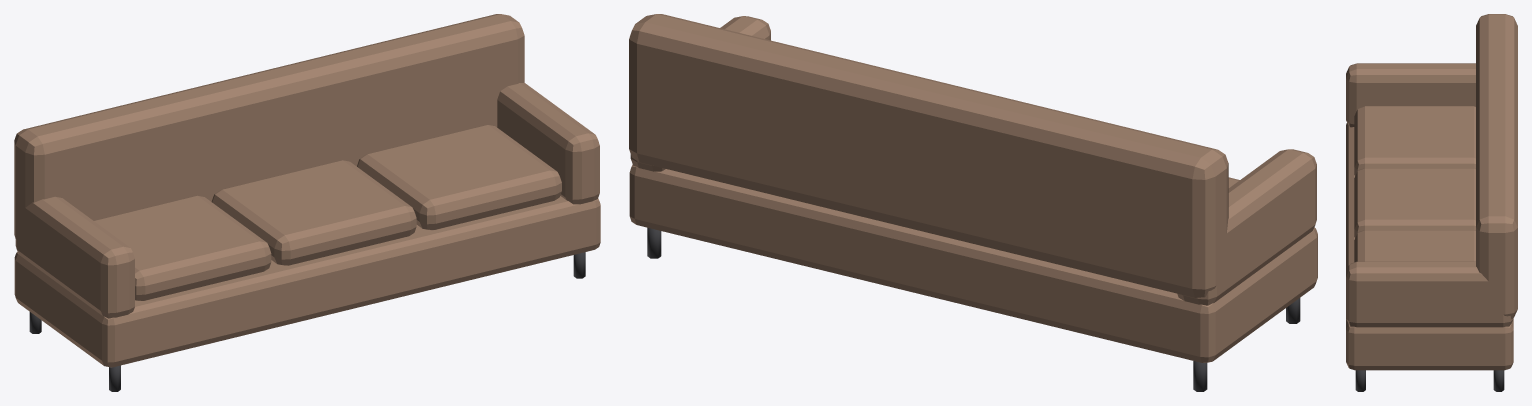
Rendered from sofa.glb.
3 renders of one model, left to right at view 1: azimuth 30°, elevation 25°; view 2: azimuth 150°, elevation 25°; view 3: azimuth 270°, elevation 25°, orthographic. The views are drawn at different scales.
Parts seen in each view (by area): view 1: sofa; view 2: sofa; view 3: sofa.
Part boxes in pixels (x1,y1,x2,y2): sofa: (14, 14, 600, 391); sofa: (629, 14, 1317, 391); sofa: (1346, 14, 1517, 391).
Bounding box in the file's own units: 2.4 × 0.925 × 0.82.
